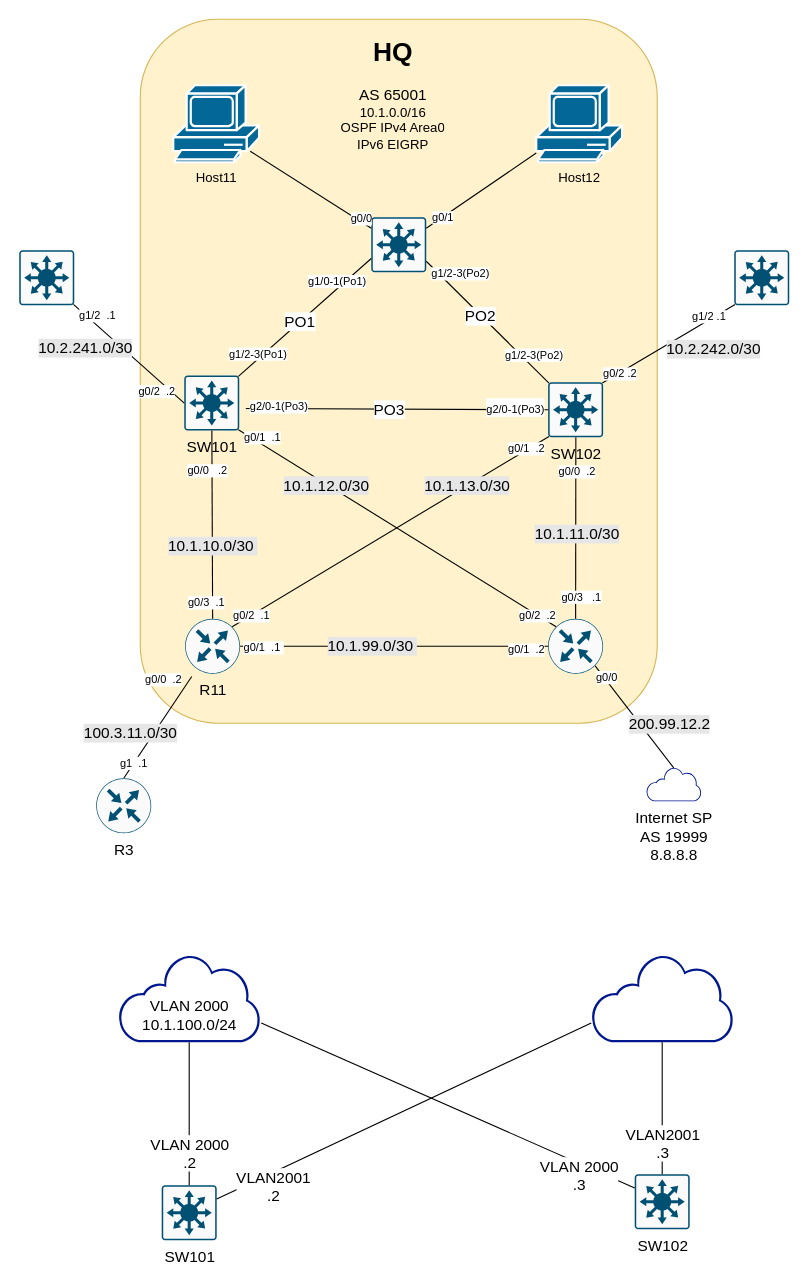
Image size: 809x1286. Some labels were removed from this diagram. The box of each missing label's shape, as (x1, y1, x2, y2) in pixels:
R12: (547, 618, 603, 674)
SW110: (370, 216, 426, 272)
SW201: (18, 249, 74, 305)
SW202: (733, 249, 789, 305)
VLAN 2001 10.1.101.0/24: (591, 954, 733, 1042)
